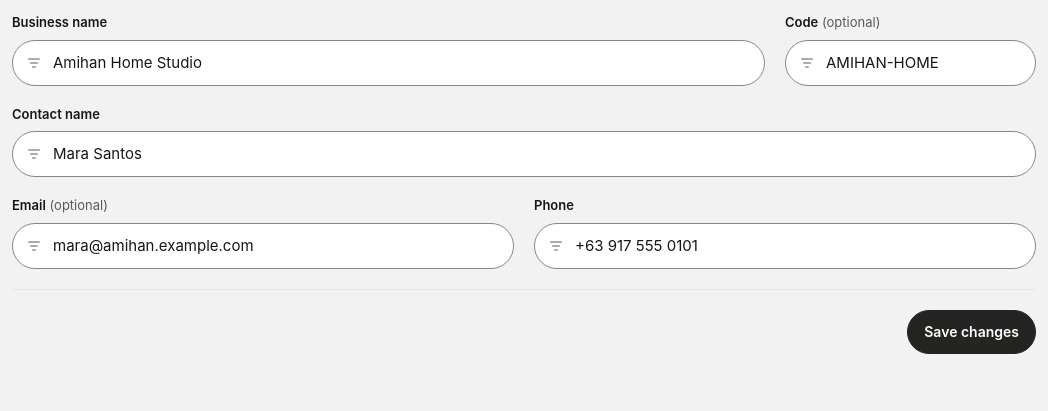
Test case: MerchantForm › reports an edit request failure without closing the form
The image size is (1048, 411).
Step 1. Click the button "Save changes" → (972, 332), box [907, 310, 1036, 354]
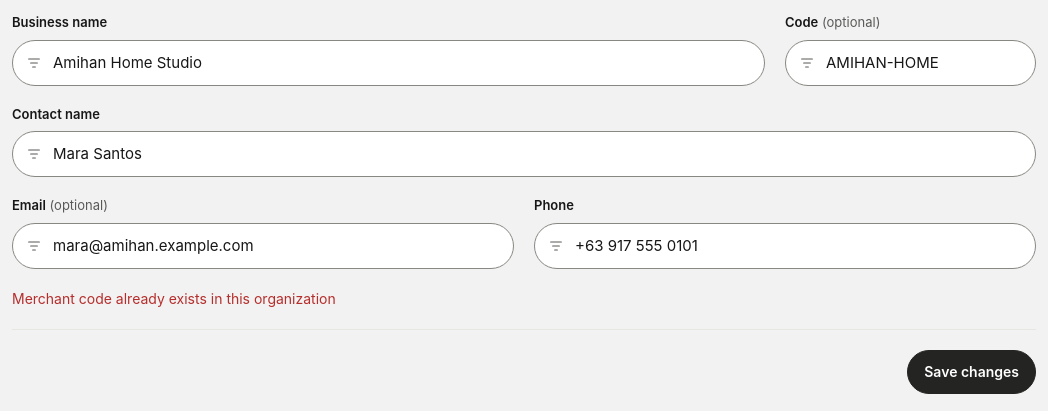
Check: the text "Merchant code already exists in this organization" is shown, box [12, 290, 336, 307]
